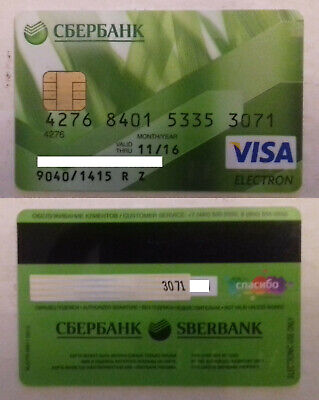card: (14, 8, 304, 192), (16, 207, 302, 387)
